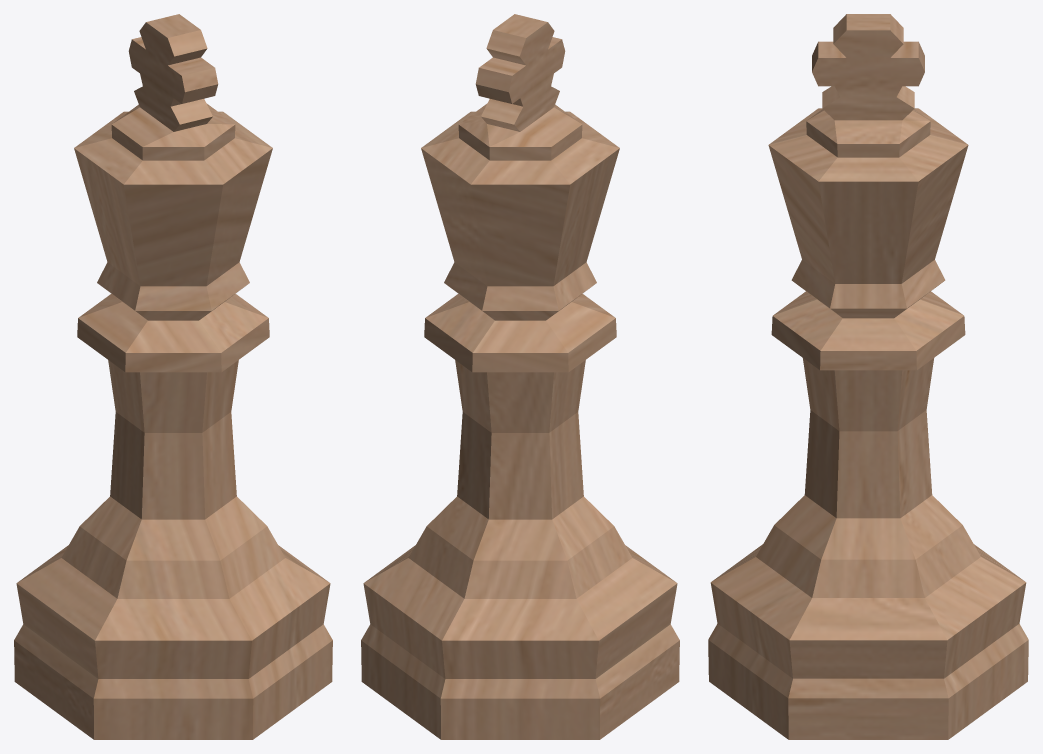
File: king.obj
3 views of the same model, side by side, from view 1: azimuth 30°, elevation 25°; view 2: azimuth 150°, elevation 25°; view 3: azimuth 270°, elevation 25° (orthographic).
Visible parts, largest first — view 1: King; view 2: King; view 3: King.
Part boxes in pixels (bbox=[...]): King: bbox=[14, 14, 332, 739]; King: bbox=[361, 14, 679, 739]; King: bbox=[708, 14, 1028, 739].
Bounding box in the file's own units: 0.8485 × 2.22 × 0.9797.
1 material, 1 textured.
